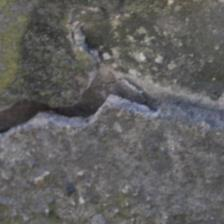Crack: (5, 68, 221, 143)
